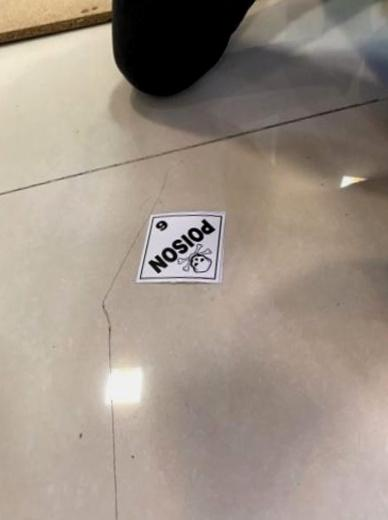poison: (134, 209, 229, 288)
